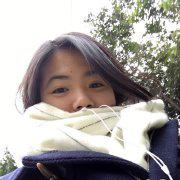WRONG: (44, 68, 118, 142)
